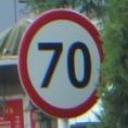speed_limit_70: (18, 10, 108, 118)
